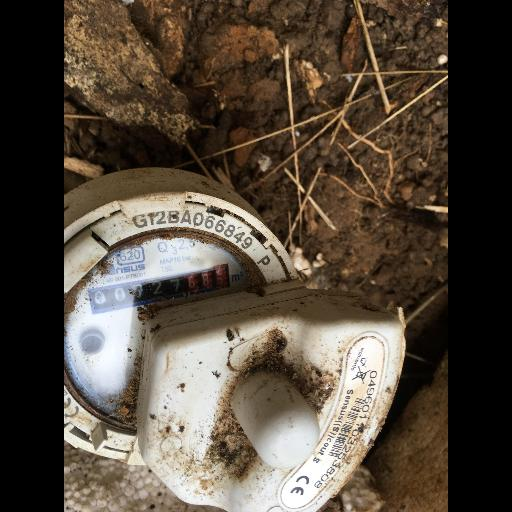0: (109, 285, 132, 307), (91, 289, 112, 311)
2: (213, 264, 232, 291), (149, 278, 170, 300)
6: (182, 272, 202, 293)
7: (128, 282, 152, 304), (166, 275, 186, 296)
8: (199, 269, 217, 289)
border_water_meter_number: (87, 263, 233, 315)
